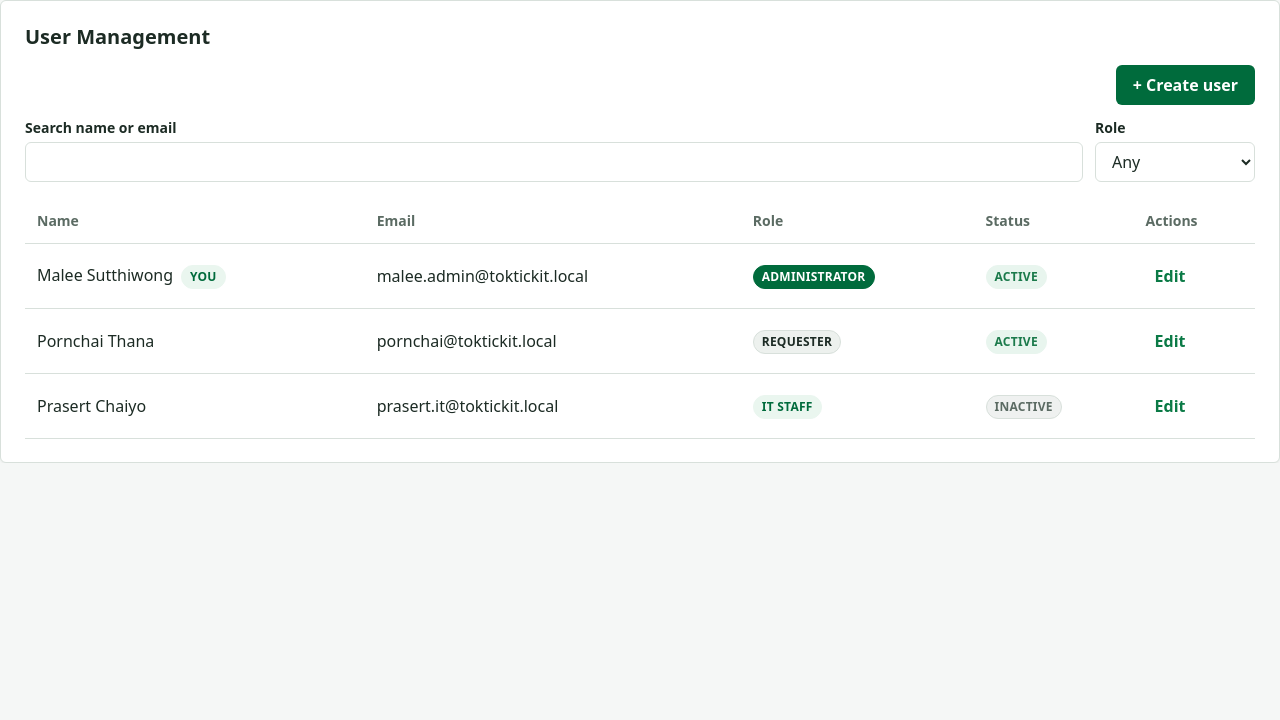
Test case: UI-21 the create panel (AC-30) › uses radio buttons for the one role, defaults Active on, and requires the initial password with its helper text
Expected: the table is shown, [25,198,1255,438]
Click the button "+ Create user" at (1185, 85), box [1116,65,1255,105]
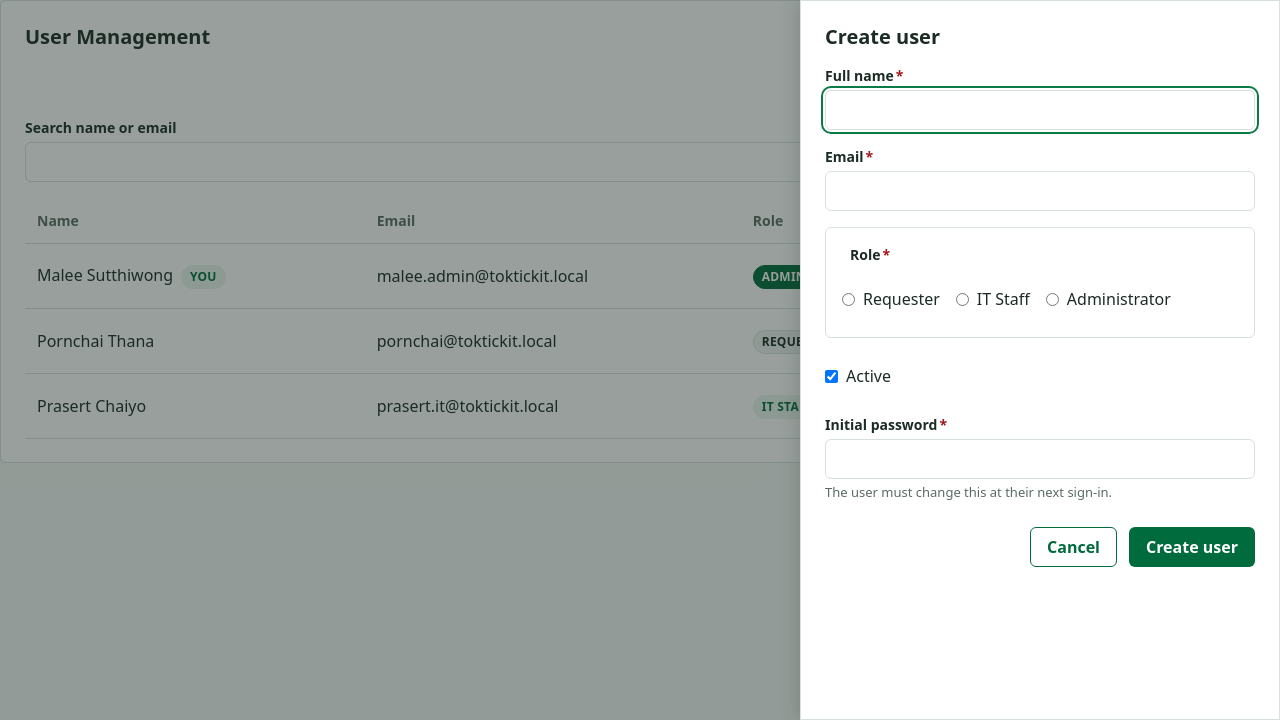
Expected: the heading "Create user" is shown, [825,23,940,50]
Expected: the switch labelled "Active" is checked, [825,370,838,382]
Expected: the text "The user must change this at their next sign-in." is shown, [825,483,1112,501]
